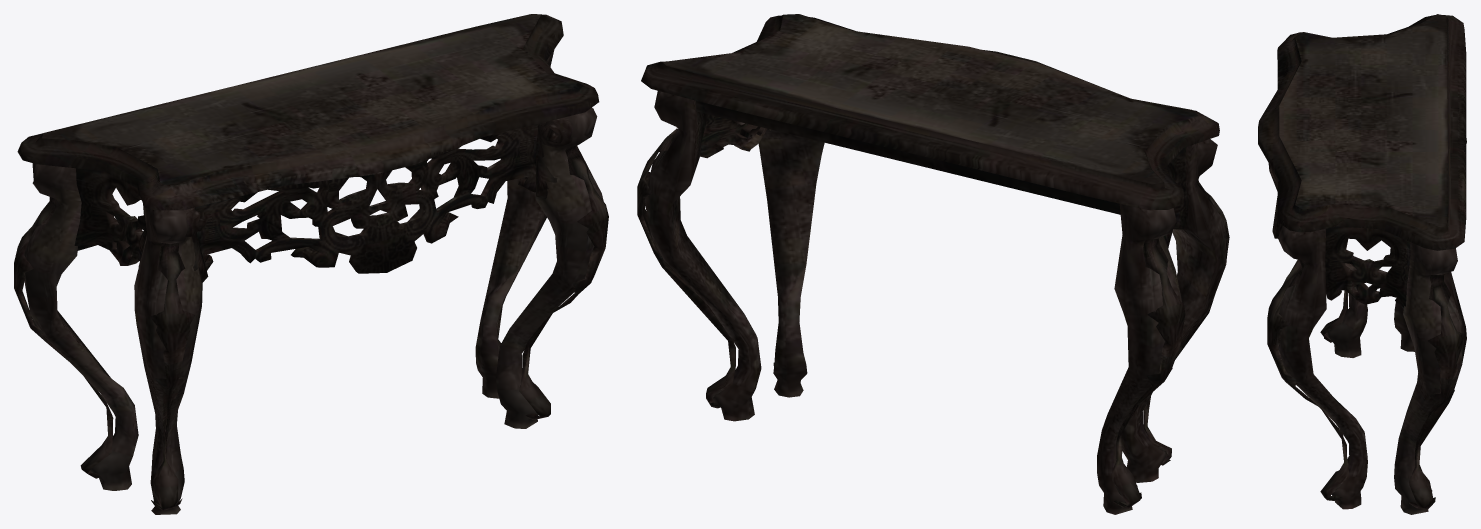
The model's file is classicconsole_01.glb.
3 views of the same model, side by side, from view 1: azimuth 30°, elevation 25°; view 2: azimuth 150°, elevation 25°; view 3: azimuth 270°, elevation 25° (orthographic). The views are drawn at different scales.
Parts seen in each view (by area): view 1: ClassicConsole_01; view 2: ClassicConsole_01; view 3: ClassicConsole_01.
Boxes of the visible parts, box(x1,y1,x2,y2) form: ClassicConsole_01: box(14, 14, 608, 514); ClassicConsole_01: box(637, 14, 1229, 514); ClassicConsole_01: box(1258, 14, 1466, 514).
Bounding box in the file's own units: 1.53 × 0.9491 × 0.5855.
Materials: 1 (1 with a texture image).
